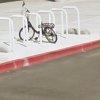Bicycle: (15, 12, 63, 54)
